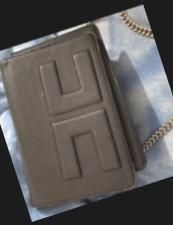ELISABETTA-FRANCHI: (17, 37, 132, 191)
